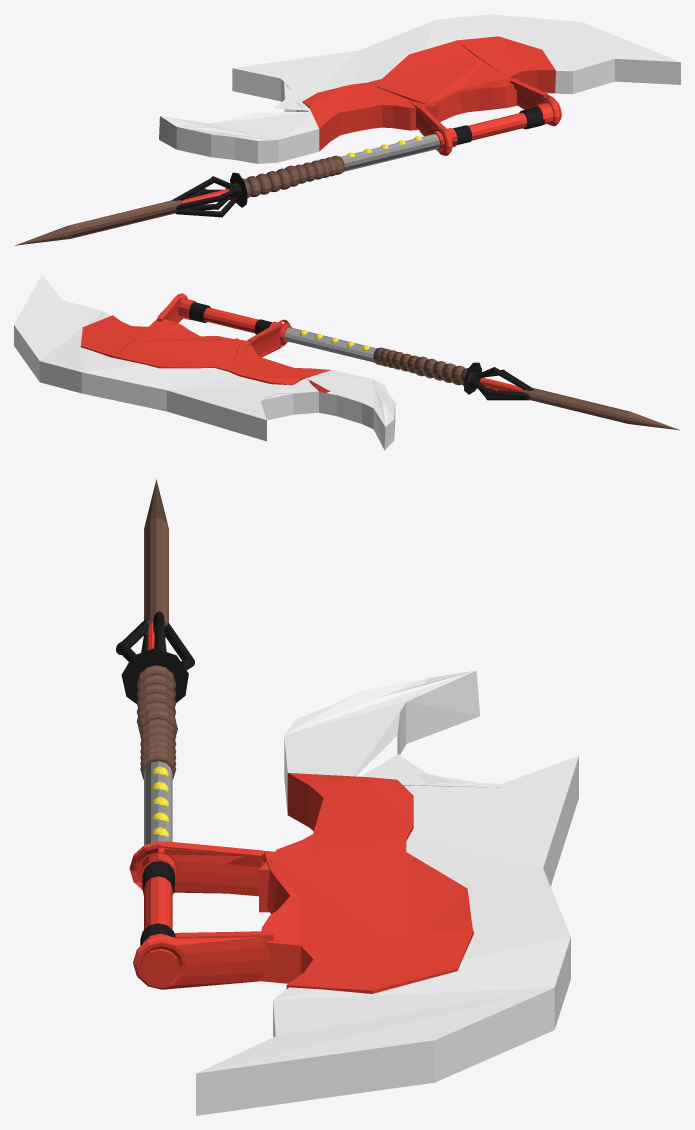
File: Buffy Scythe.glb
3 renders of one model, top to bottom at view 1: azimuth 30°, elevation 25°; view 2: azimuth 150°, elevation 25°; view 3: azimuth 270°, elevation 25°, orthographic. The views are drawn at different scales.
Parts seen in each view (by area): view 1: Node; view 2: Node; view 3: Node.
Part boxes in pixels (x1=…): Node: x1=15, y1=14, x2=680, y2=245; Node: x1=14, y1=275, x2=679, y2=450; Node: x1=116, y1=479, x2=578, y2=1115.
Size of the model in its own units: 4.04 by 0.2135 by 1.29.
